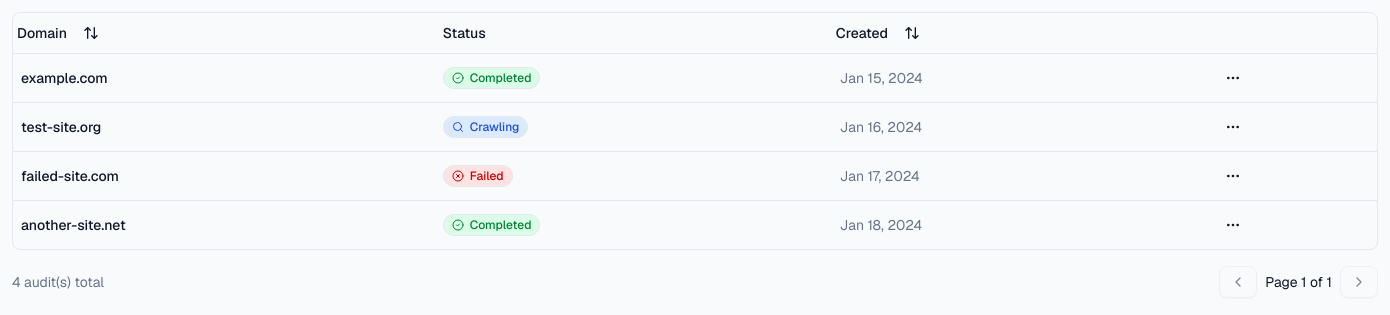
AuditTable › actions menu › shows Retry option only for failed audits
Note: Find the failed audit's action button (index 2)
Click the button named "Open menu" in the row of "failed-site.com".
click(1233, 176)  # box [1217, 160, 1249, 192]
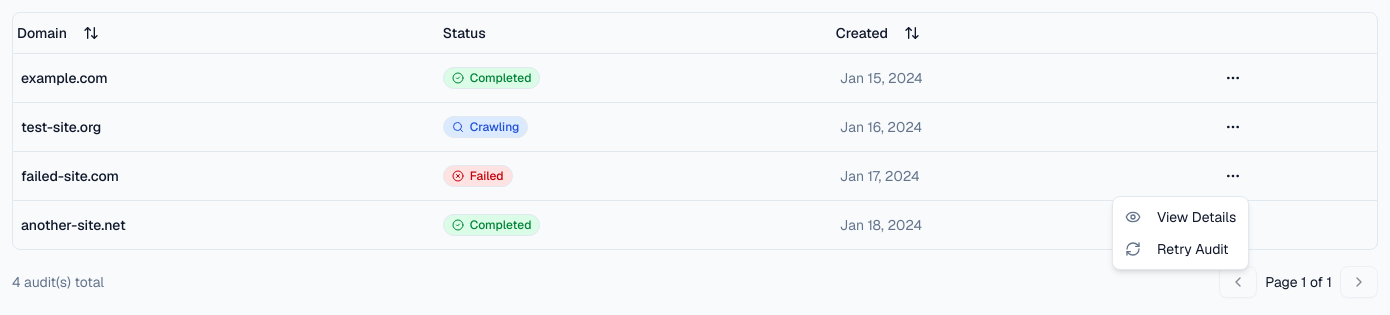
Now the menu item "Retry Audit" is shown, box [1125, 240, 1229, 258]
